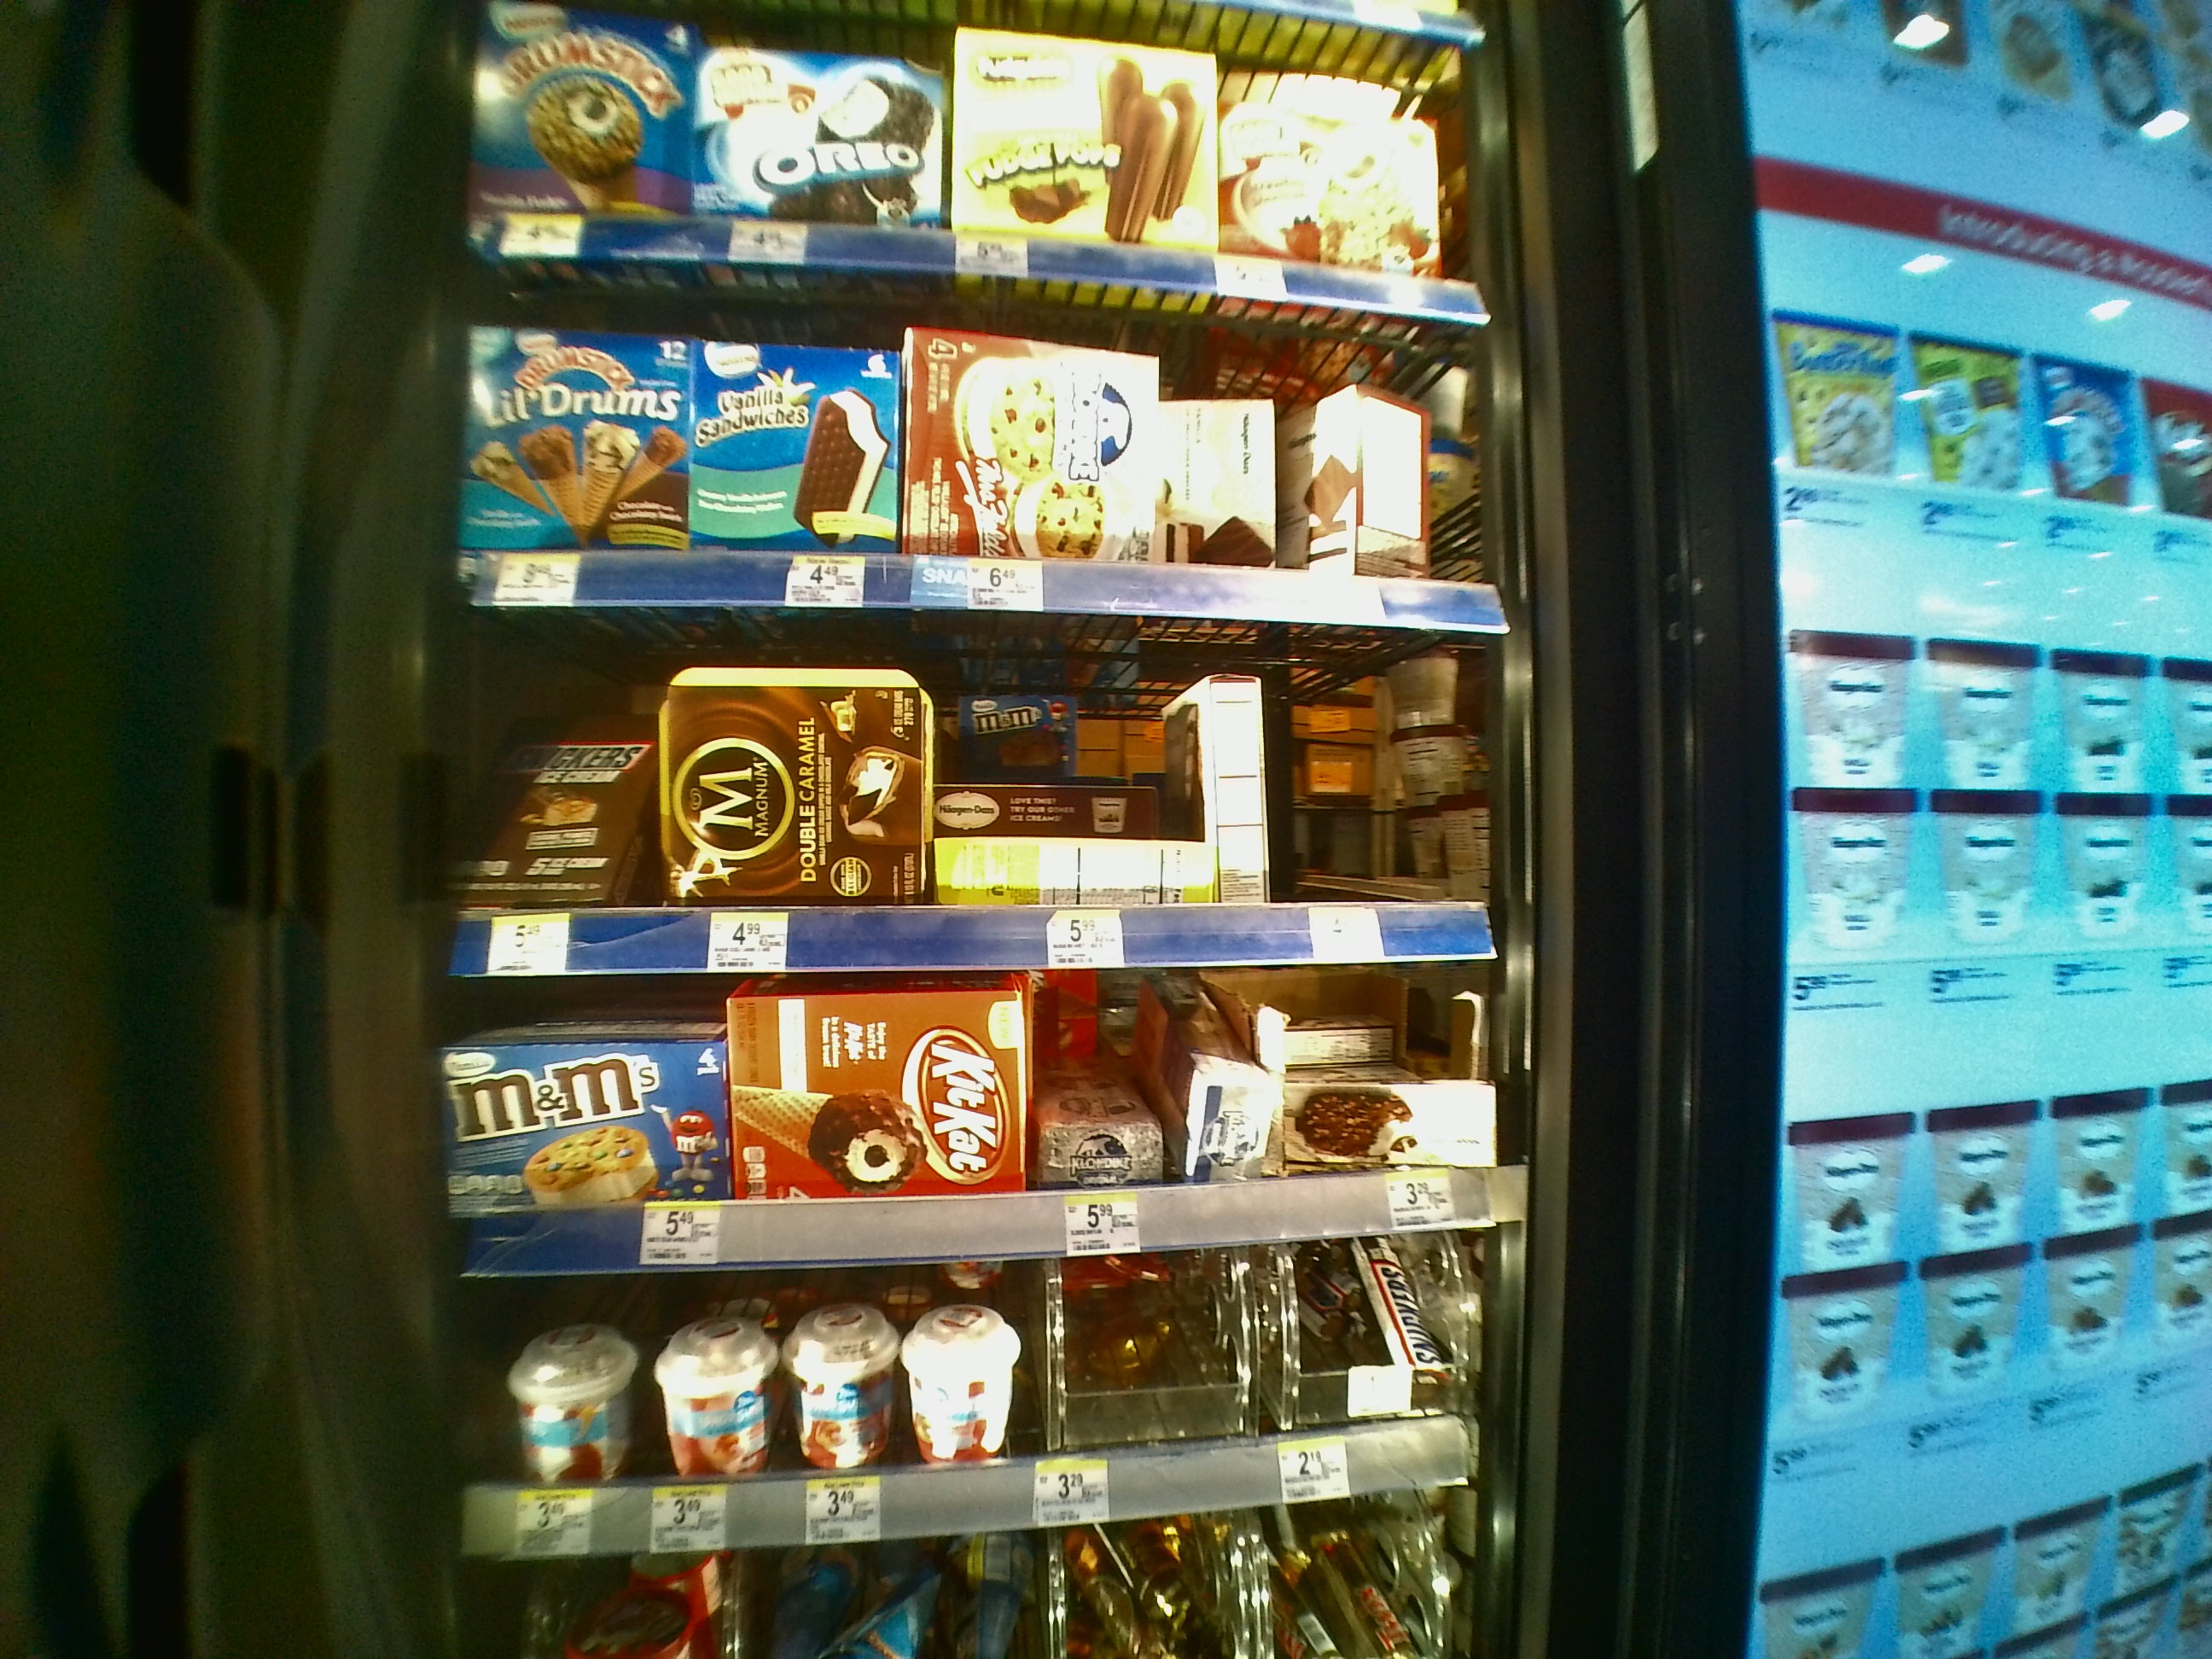shelf: (455, 247, 1498, 608), (446, 620, 1491, 978), (451, 988, 1508, 1274), (460, 1291, 1496, 1549)
